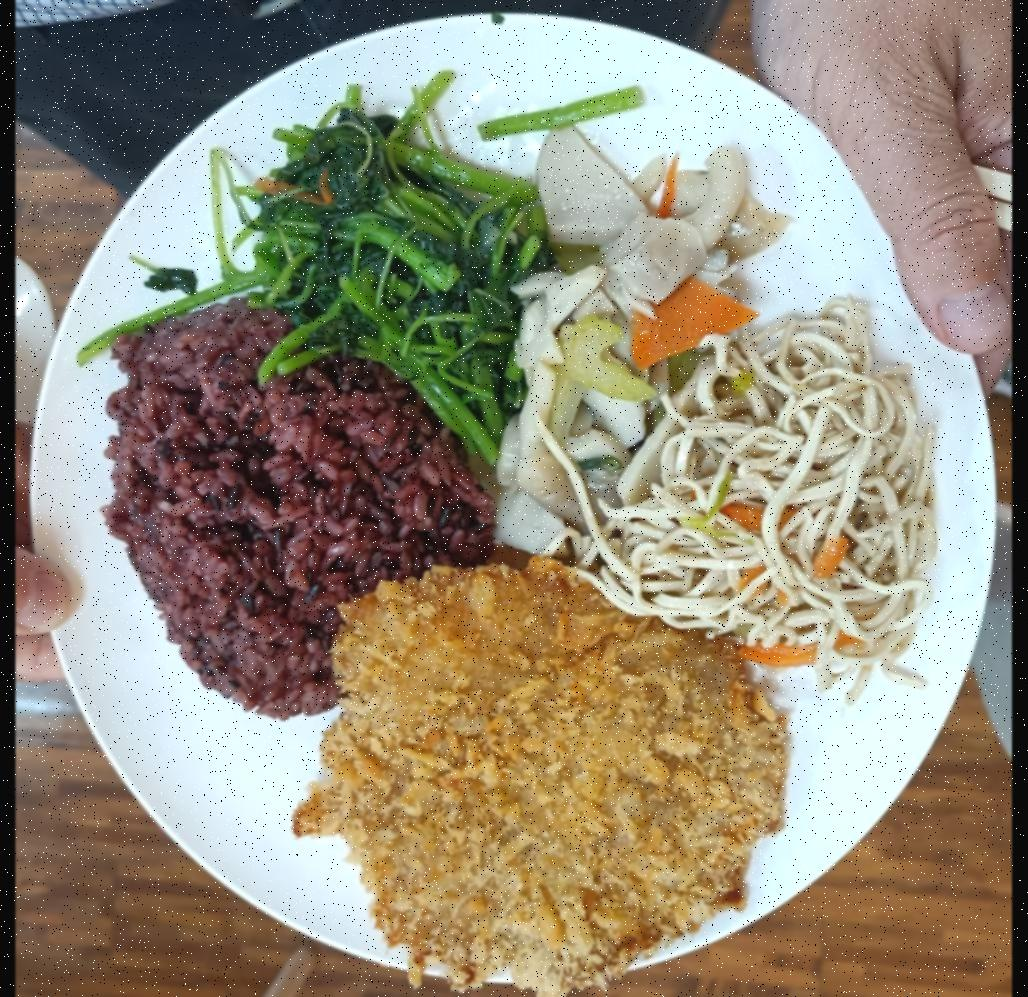big fried chicken leg: (41, 0, 1004, 989)
braised fish: (121, 292, 407, 700)
braised fish fillet: (585, 312, 928, 654), (261, 108, 525, 390), (516, 148, 688, 509)
braised pork: (331, 566, 766, 972)
